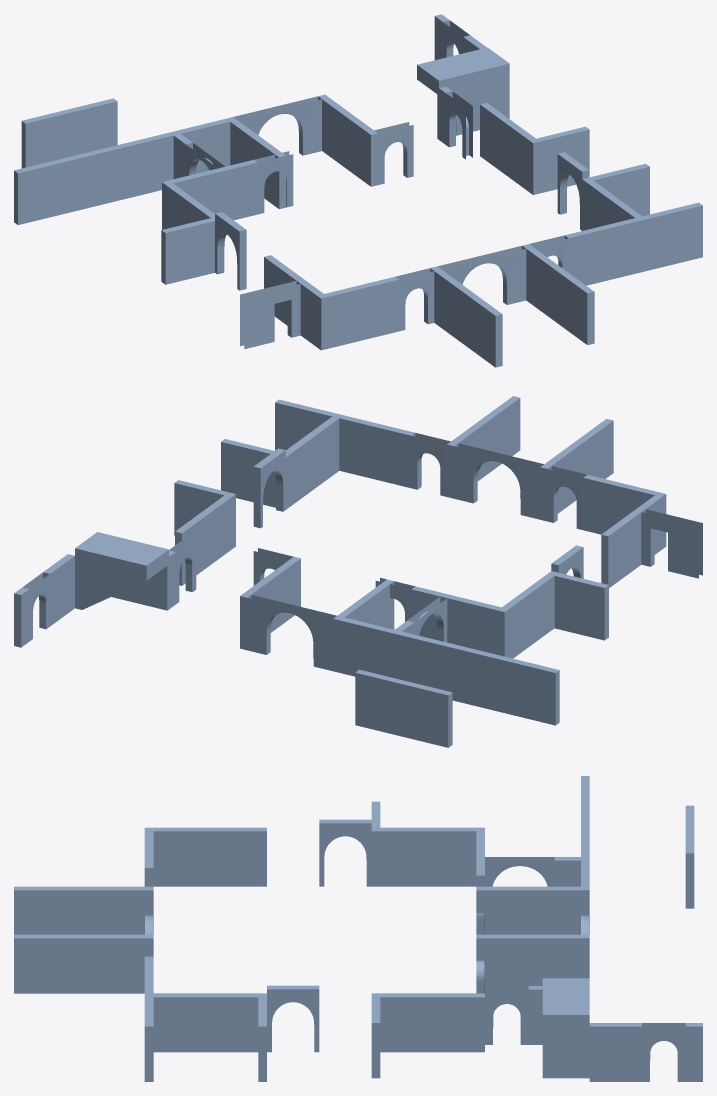
The model's file is Floor01_Innerwalls.fbx.
3 renders of one model, top to bottom at view 1: azimuth 30°, elevation 25°; view 2: azimuth 150°, elevation 25°; view 3: azimuth 270°, elevation 25°, orthographic. The views are drawn at different scales.
Visible parts, largest first — view 1: Dining_table_v01:wall_llong13, walls6, Fireplace:Fireplace:Fireplace:Fireplace:walls36, walls28, walls9, walls, walls11, walls33, walls31, walls26, wall_llong14, Fireplace:Window8 (+18 smaller); view 2: Dining_table_v01:wall_llong13, walls28, walls6, Fireplace:Fireplace:Fireplace:Fireplace:walls36, walls31, Doorway12, walls9, polySurface114, polySurface1111, wall_llong14, walls, walls8 (+17 smaller); view 3: walls, walls8, walls9, walls1, walls34, walls33, Doorway12, walls26, walls27, walls28, entryHall15, entryHall17 (+11 smaller).
Part boxes in pixels (box(x1,y1,x2,y2)): Dining_table_v01:wall_llong13: box(14, 119, 230, 224); walls6: box(564, 202, 702, 285); Fireplace:Fireplace:Fireplace:Fireplace:walls36: box(21, 98, 117, 168); walls28: box(417, 47, 509, 139); walls9: box(430, 266, 502, 367); walls: box(522, 244, 594, 345); walls11: box(324, 276, 398, 348); walls33: box(480, 103, 540, 194); walls31: box(162, 159, 257, 229); walls26: box(318, 94, 378, 186); wall_llong14: box(161, 218, 214, 284); Fireplace:Window8: box(240, 281, 300, 349); Dining_table_v01:wall_llong13: box(340, 617, 559, 725); walls28: box(75, 532, 168, 610); walls6: box(275, 399, 415, 487); Fireplace:Fireplace:Fireplace:Fireplace:walls36: box(355, 669, 452, 747); walls31: box(411, 586, 508, 657); Doorway12: box(14, 554, 74, 647); walls9: box(540, 419, 613, 521); polySurface114: box(454, 443, 543, 519); polySurface1111: box(247, 595, 336, 671); wall_llong14: box(549, 571, 608, 640); walls: box(447, 396, 520, 498); walls8: box(601, 492, 666, 587); walls: box(14, 934, 153, 993); walls8: box(144, 827, 266, 886); walls9: box(14, 886, 153, 934); walls1: box(153, 993, 258, 1052); walls34: box(371, 827, 476, 886); walls33: box(371, 993, 484, 1052); Doorway12: box(589, 1023, 702, 1081); walls26: box(476, 934, 589, 985); walls27: box(476, 886, 589, 934); walls28: box(542, 978, 589, 1078); entryHall15: box(319, 819, 371, 886); entryHall17: box(267, 985, 319, 1052).
Size of the model in its own units: 3400 by 450 by 3950.
